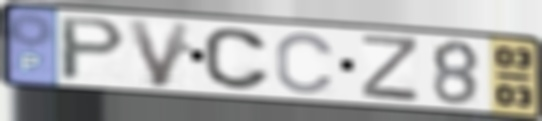8: (430, 39, 482, 107)
C: (200, 26, 274, 93), (273, 30, 338, 96)
P: (57, 15, 130, 83)
V: (124, 18, 195, 90)
Z: (359, 32, 421, 105)
